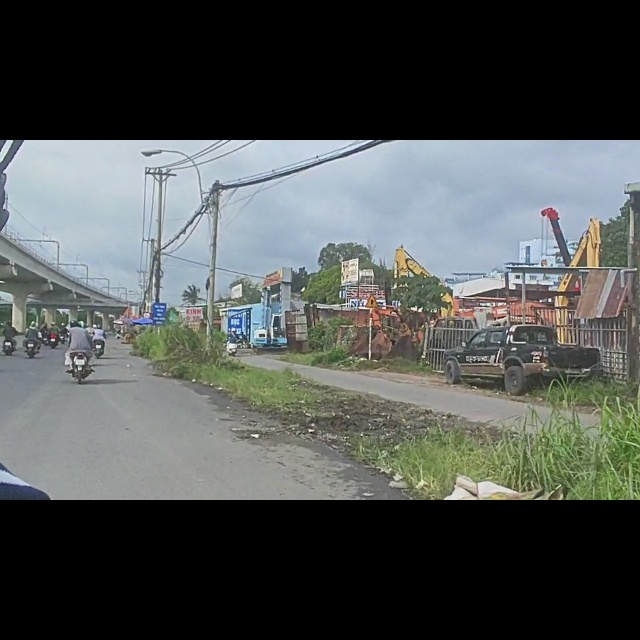bien_nguy_hiem: (364, 274, 381, 297)
